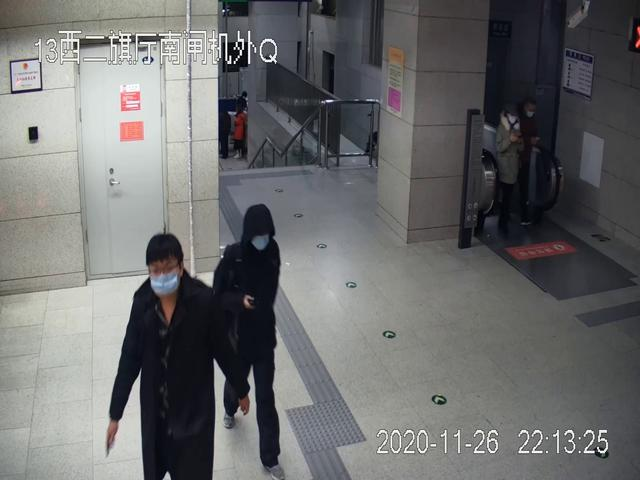person: (106, 233, 249, 480), (212, 203, 284, 480), (496, 100, 525, 232)
